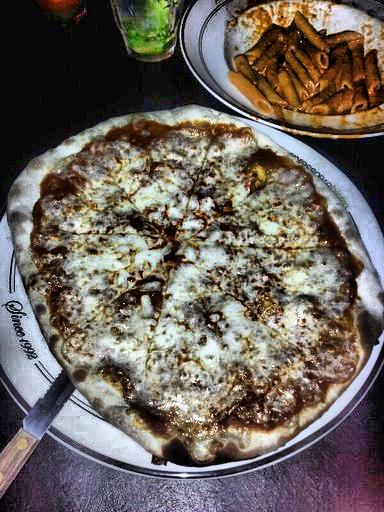pizza: (15, 105, 384, 512)
